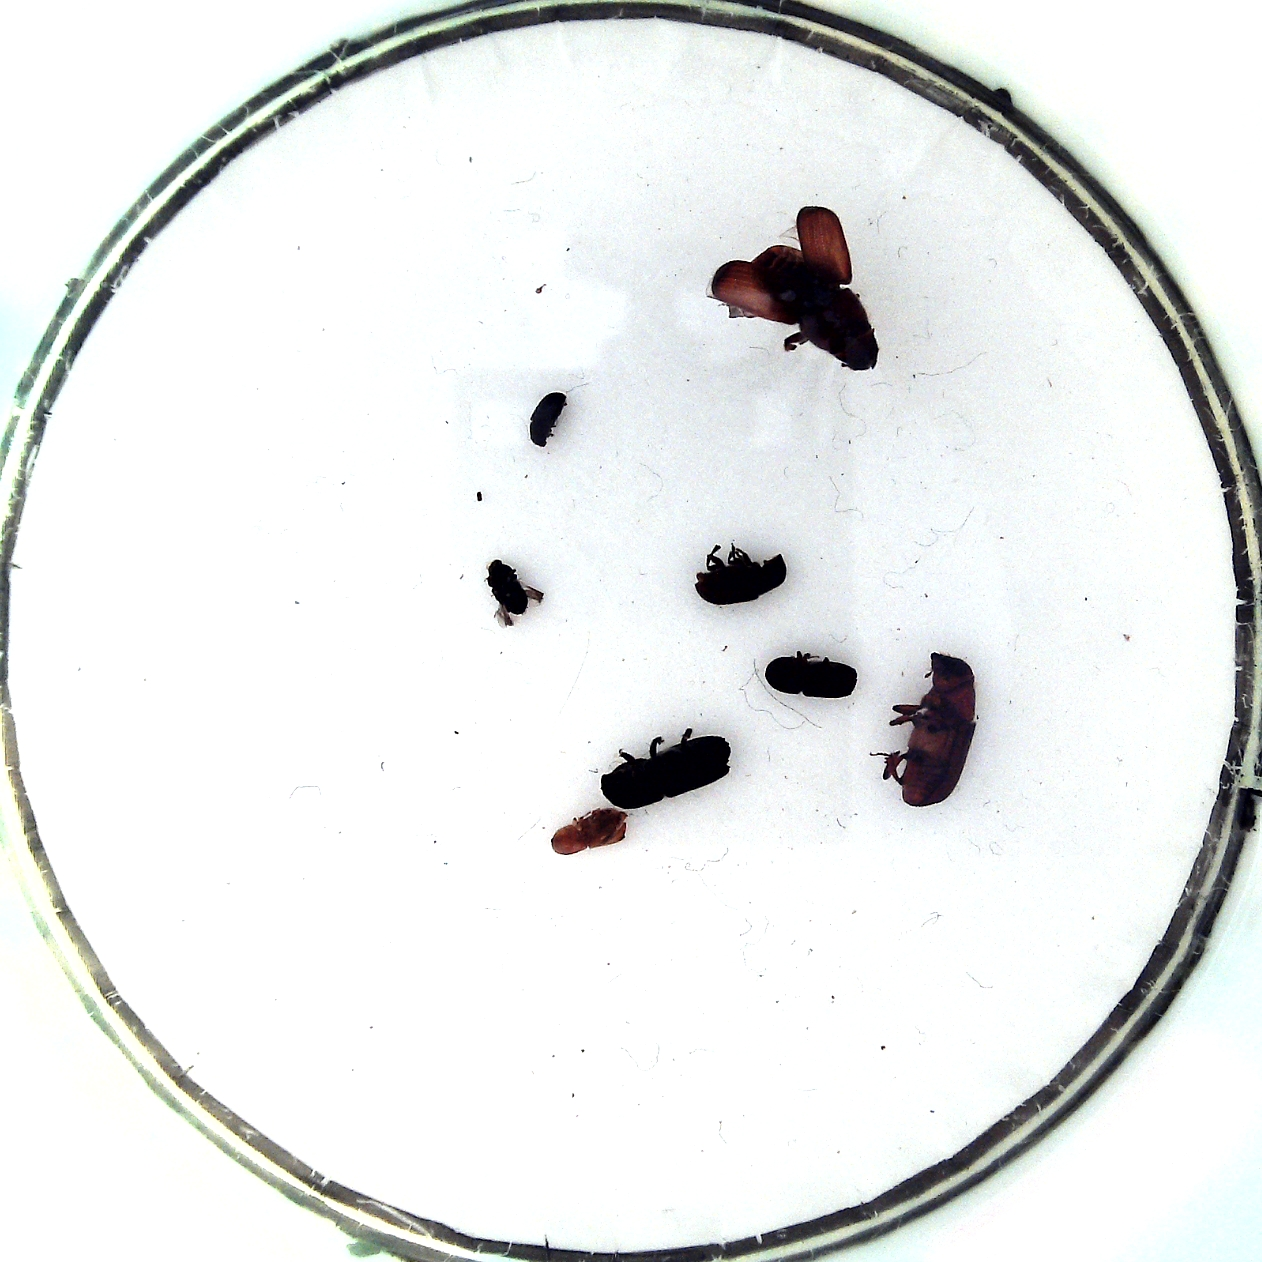Boerner: (599, 736, 733, 809)
Leconte: (754, 243, 879, 372), (899, 651, 977, 807)
acuminatus: (487, 559, 530, 617)
armandi: (695, 555, 787, 606)
coleoptera: (551, 809, 629, 855), (529, 391, 567, 447)
linnaeus: (766, 656, 858, 699)
